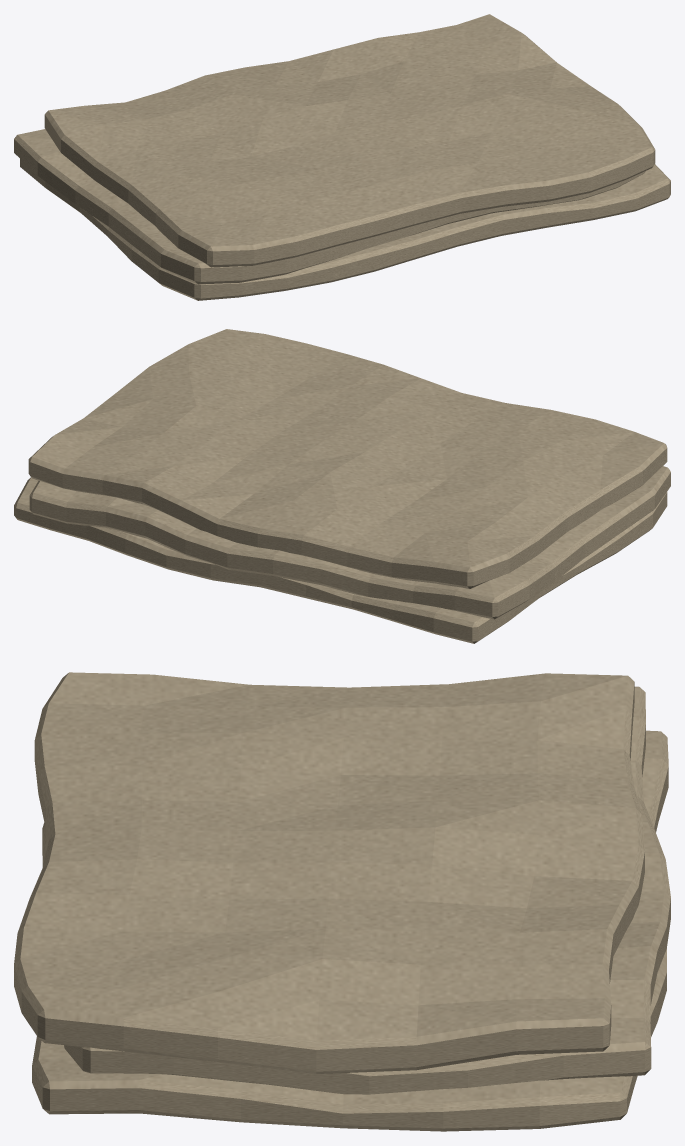
The model's file is FoldedLinen_LOD0.fbx.
The picture shows the model from 3 angles, top to bottom: view 1: azimuth 30°, elevation 25°; view 2: azimuth 150°, elevation 25°; view 3: azimuth 270°, elevation 25°; orthographic projection. The views are drawn at different scales.
Visible parts, largest first — view 1: FoldedLinen; view 2: FoldedLinen; view 3: FoldedLinen.
Part boxes in pixels (bbox=[...]): FoldedLinen: bbox=[14, 14, 670, 300]; FoldedLinen: bbox=[14, 329, 670, 643]; FoldedLinen: bbox=[14, 672, 670, 1131].
Size of the model in its own units: 0.4452 by 0.0549 by 0.3216.
